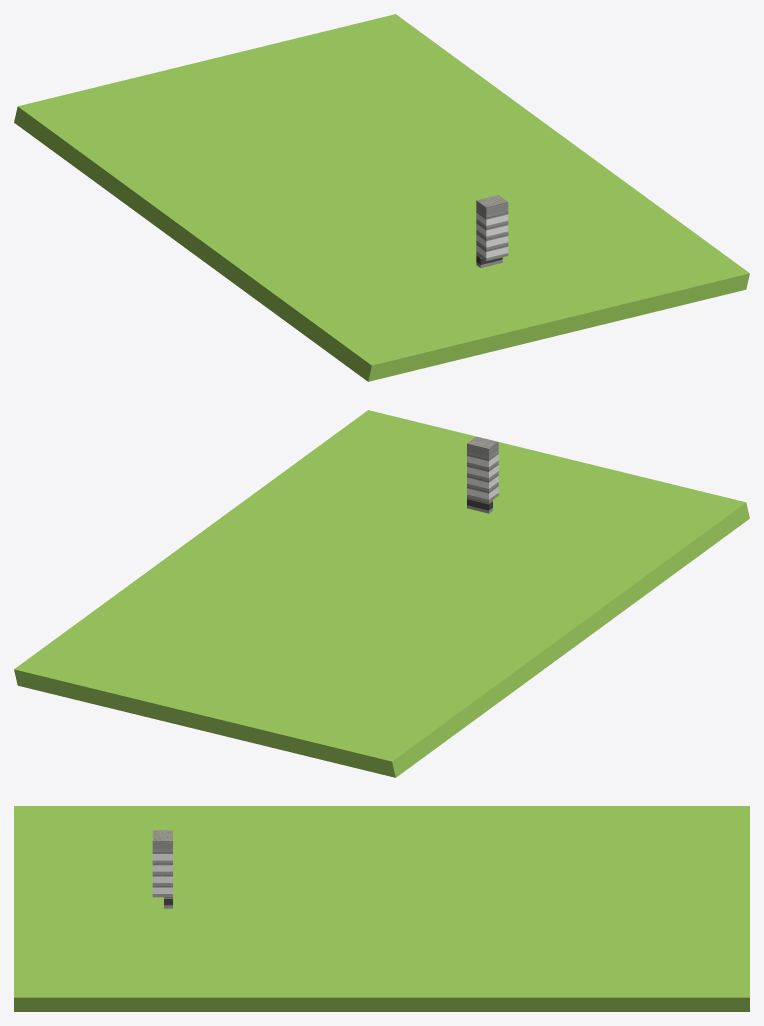
Rendered from building_c.fbx.
3 views of the same model, one above another, from view 1: azimuth 30°, elevation 25°; view 2: azimuth 150°, elevation 25°; view 3: azimuth 270°, elevation 25° (orthographic). The views are drawn at different scales.
Visible parts, largest first — view 1: 閉じた線形状の掃引体 (×2); view 2: 閉じた線形状の掃引体 (×2); view 3: 閉じた線形状の掃引体 (×2).
Part boxes in pixels (left/top/right/bottom): 閉じた線形状の掃引体 (×2): left=14, top=14, right=749, bottom=381; 閉じた線形状の掃引体 (×2): left=14, top=410, right=749, bottom=777; 閉じた線形状の掃引体 (×2): left=14, top=806, right=749, bottom=1011.
Bounding box in the file's own units: 2595 × 523 × 4170.
86 materials, 33 textured.
